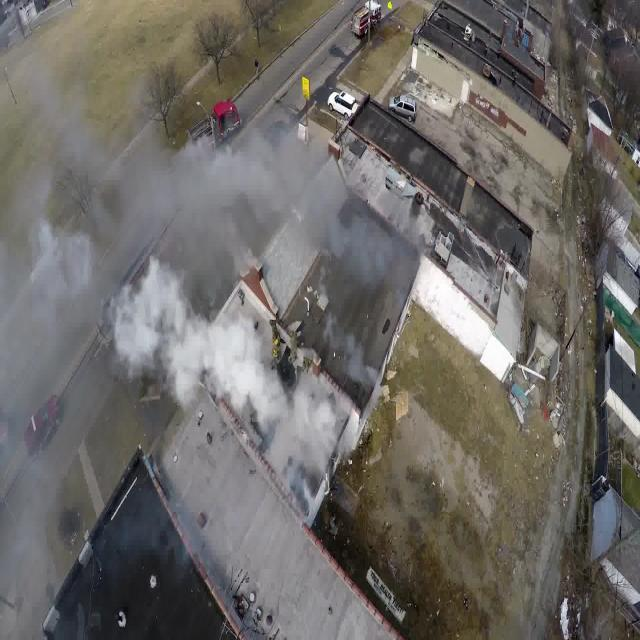Smoke: (26, 64, 424, 494)
